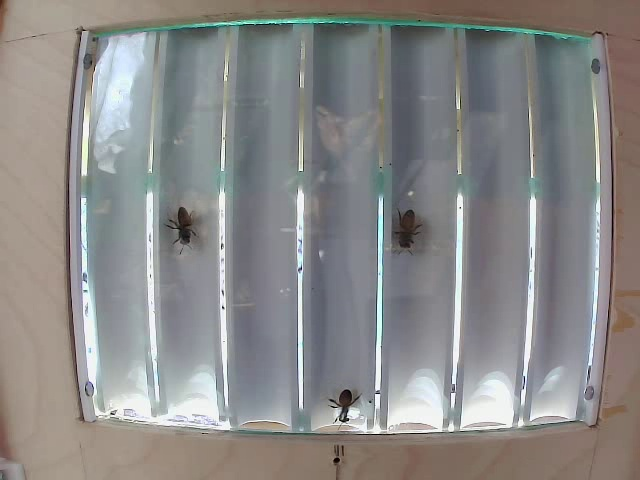bee: (390, 210, 432, 254), (174, 207, 208, 253), (335, 384, 364, 426)
